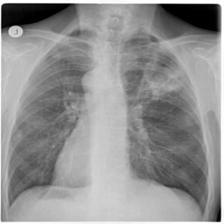tuberculosis: (5, 26, 212, 219)
